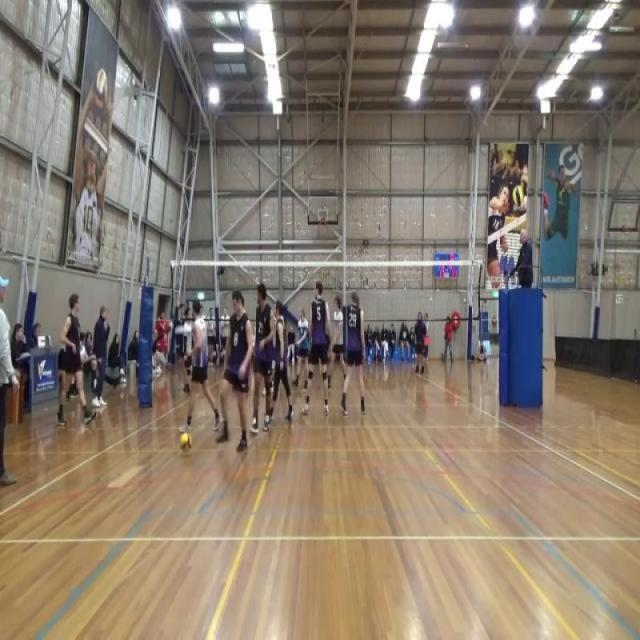volleyball: (95, 69, 108, 110), (512, 184, 525, 208), (179, 431, 192, 455)
